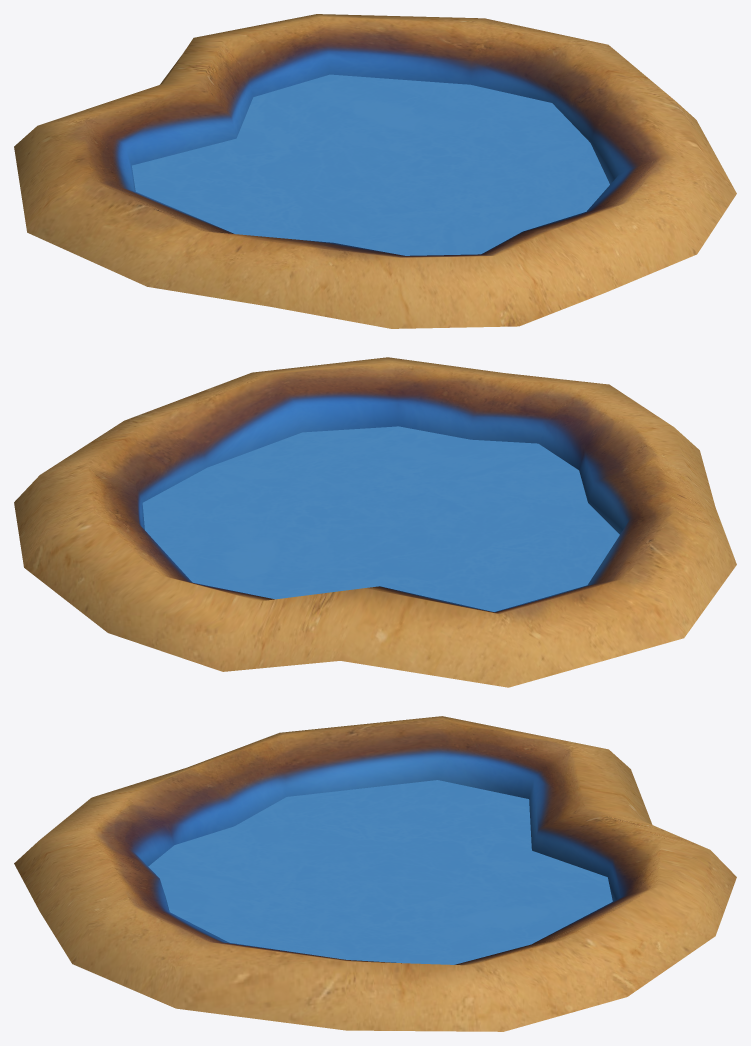
File: desert_oasis.FBX
3 renders of one model, top to bottom at view 1: azimuth 30°, elevation 25°; view 2: azimuth 150°, elevation 25°; view 3: azimuth 270°, elevation 25°, orthographic. The views are drawn at different scales.
Parts seen in each view (by area): view 1: Cylinder035; view 2: Cylinder035; view 3: Cylinder035.
Boxes of the visible parts, left/top/right/bottom form: Cylinder035: left=14, top=14, right=736, bottom=328; Cylinder035: left=14, top=357, right=736, bottom=687; Cylinder035: left=14, top=716, right=736, bottom=1031.
Size of the model in its own units: 59.53 by 3.67 by 60.51.
